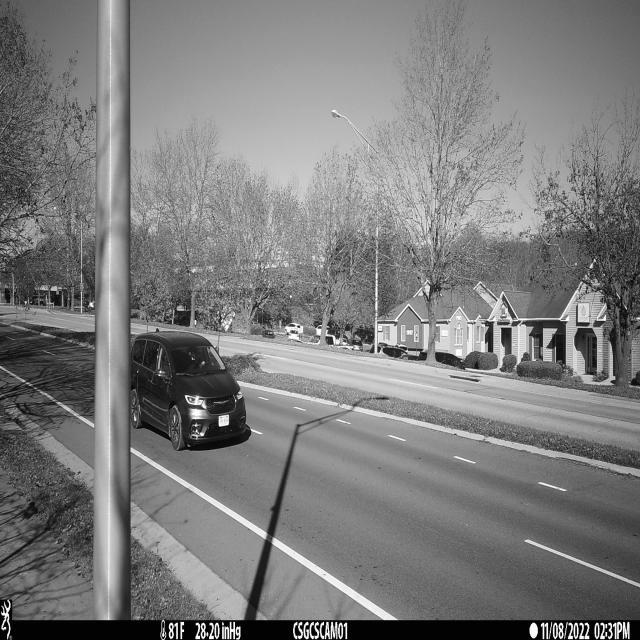Van: (130, 329, 247, 452)
